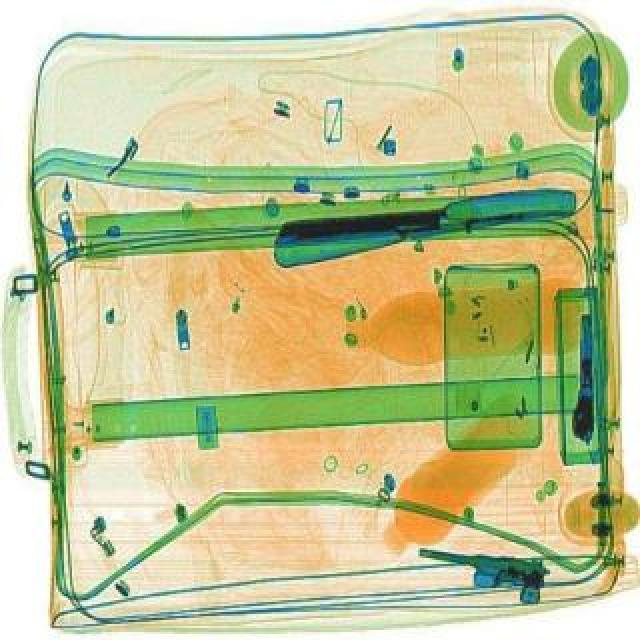gun: (412, 530, 552, 604), (568, 312, 596, 442)
knife: (270, 192, 566, 268), (268, 186, 576, 242)
